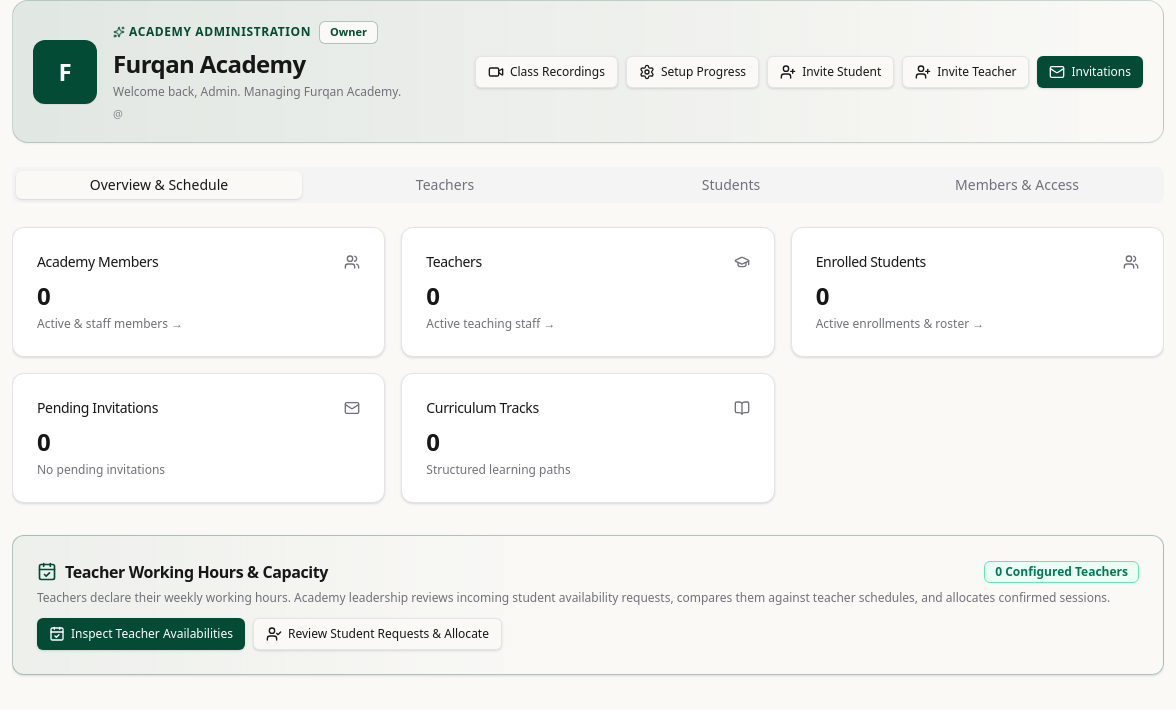
Role-Based Dashboards and SSoT Compliance › OwnerAdminDashboard › unifies onboarded students and teachers, showing correct counts and dedicated rosters
The image size is (1176, 710).
Expected: the text "Enrolled Students" is shown, [816,252,926,272]
Click the tab "Teachers" at (445, 185), box [302,171,588,199]
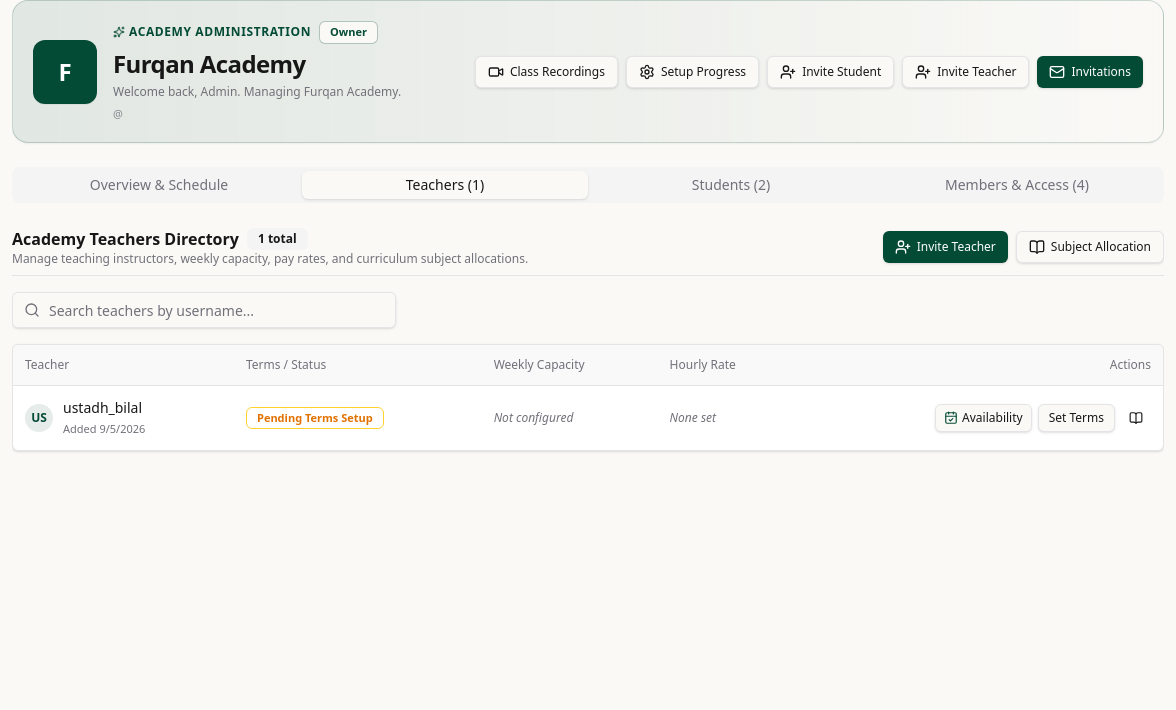
Now the text "ustadh_bilal" is shown, box [63,398,145,418]
Now the text "Pending Terms Setup" is shown, box [246,407,384,429]
Click the tab "Students (2)" at (731, 185), box [588,171,874,199]
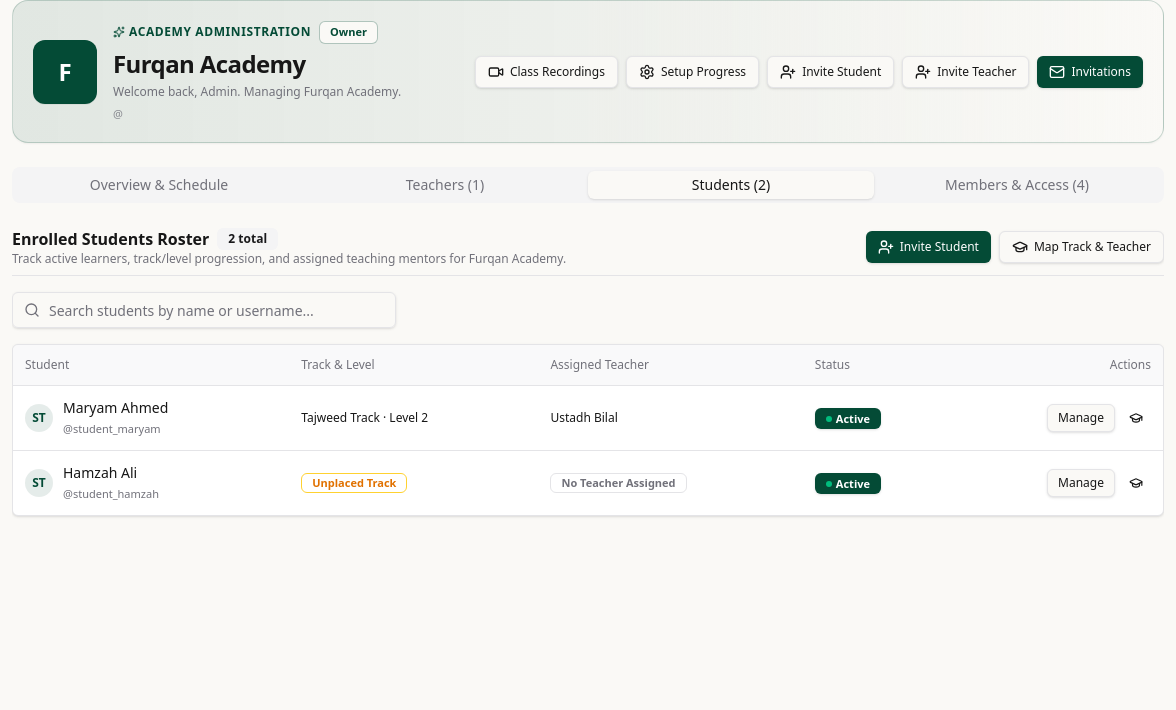
Now the text "Maryam Ahmed" is shown, box [63,398,168,418]
Now the text "Hamzah Ali" is shown, box [63,463,137,483]
Now the text "Tajweed Track · Level 2" is shown, box [301,409,428,426]
Click the tab "Members & Access (4)" at (1017, 185), box [874,171,1160,199]
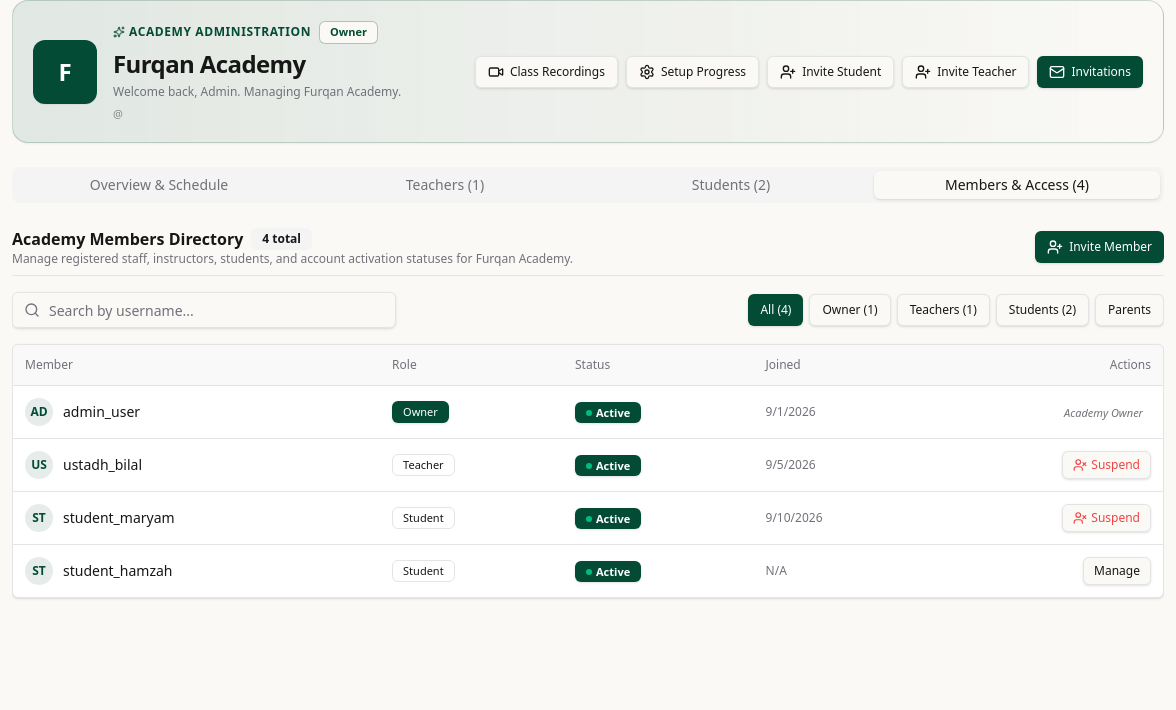
Now the button "Students (2)" is shown, box [996,294,1089,326]
Now the button "Teachers (1)" is shown, box [897,294,990,326]
Now the button "Owner (1)" is shown, box [810,294,891,326]
